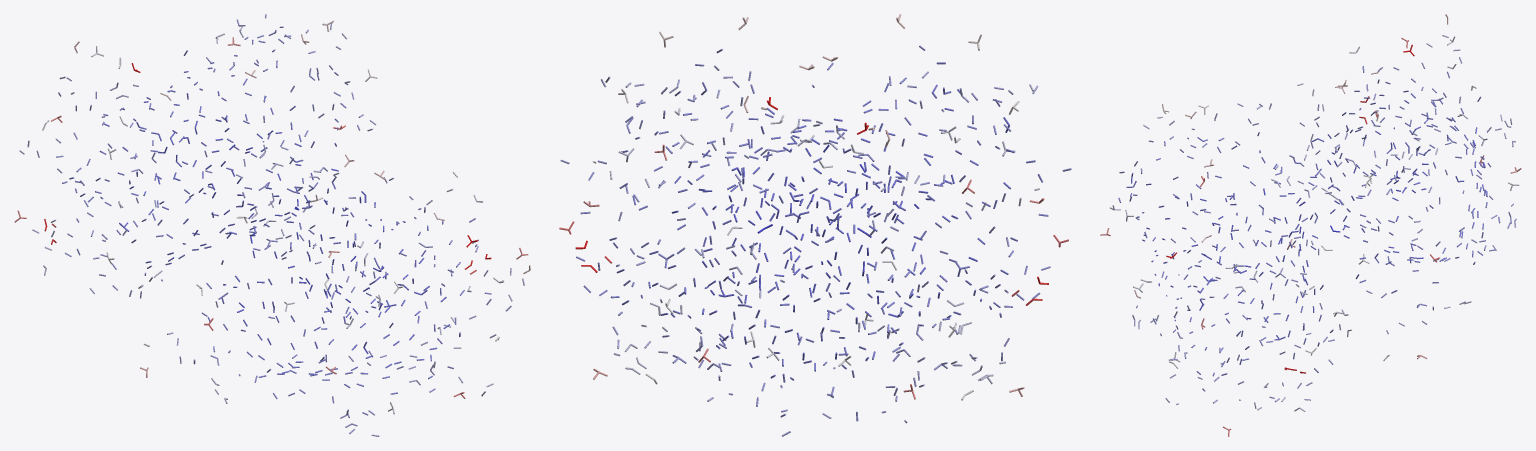
The model's file is 1gfl__sticks__b-factor__H.glb.
3 views of the same model, side by side, from view 1: azimuth 30°, elevation 25°; view 2: azimuth 150°, elevation 25°; view 3: azimuth 270°, elevation 25° (orthographic). The views are drawn at different scales.
Visible parts, largest first — view 1: Renderer Node; view 2: Renderer Node; view 3: Renderer Node.
Boxes of the visible parts, x1,y1,x2,y2 form: Renderer Node: (14, 14, 530, 436); Renderer Node: (559, 14, 1071, 436); Renderer Node: (1100, 14, 1521, 436).
Size of the model in its own units: 62.59 by 52.19 by 61.69.
